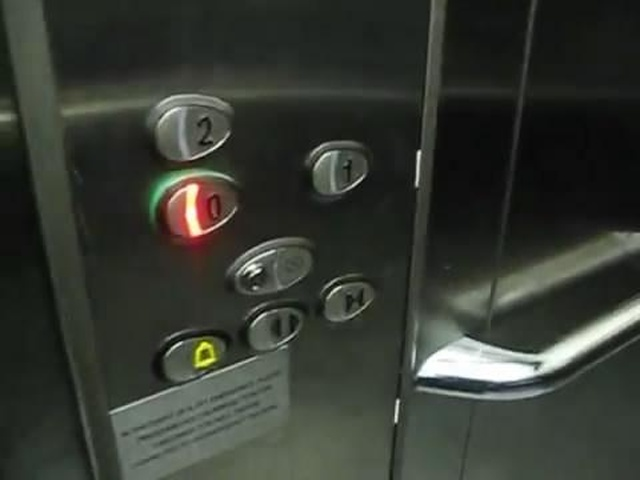0: (145, 169, 246, 247)
1: (300, 136, 375, 203)
2: (142, 91, 241, 168)
alarm: (149, 325, 232, 388)
close: (314, 270, 381, 330)
open: (238, 299, 309, 357)
